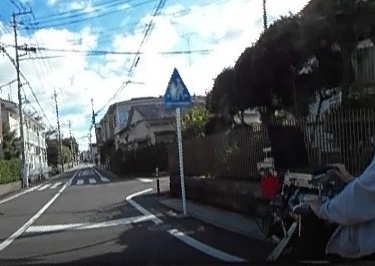person: (307, 54, 375, 253)
